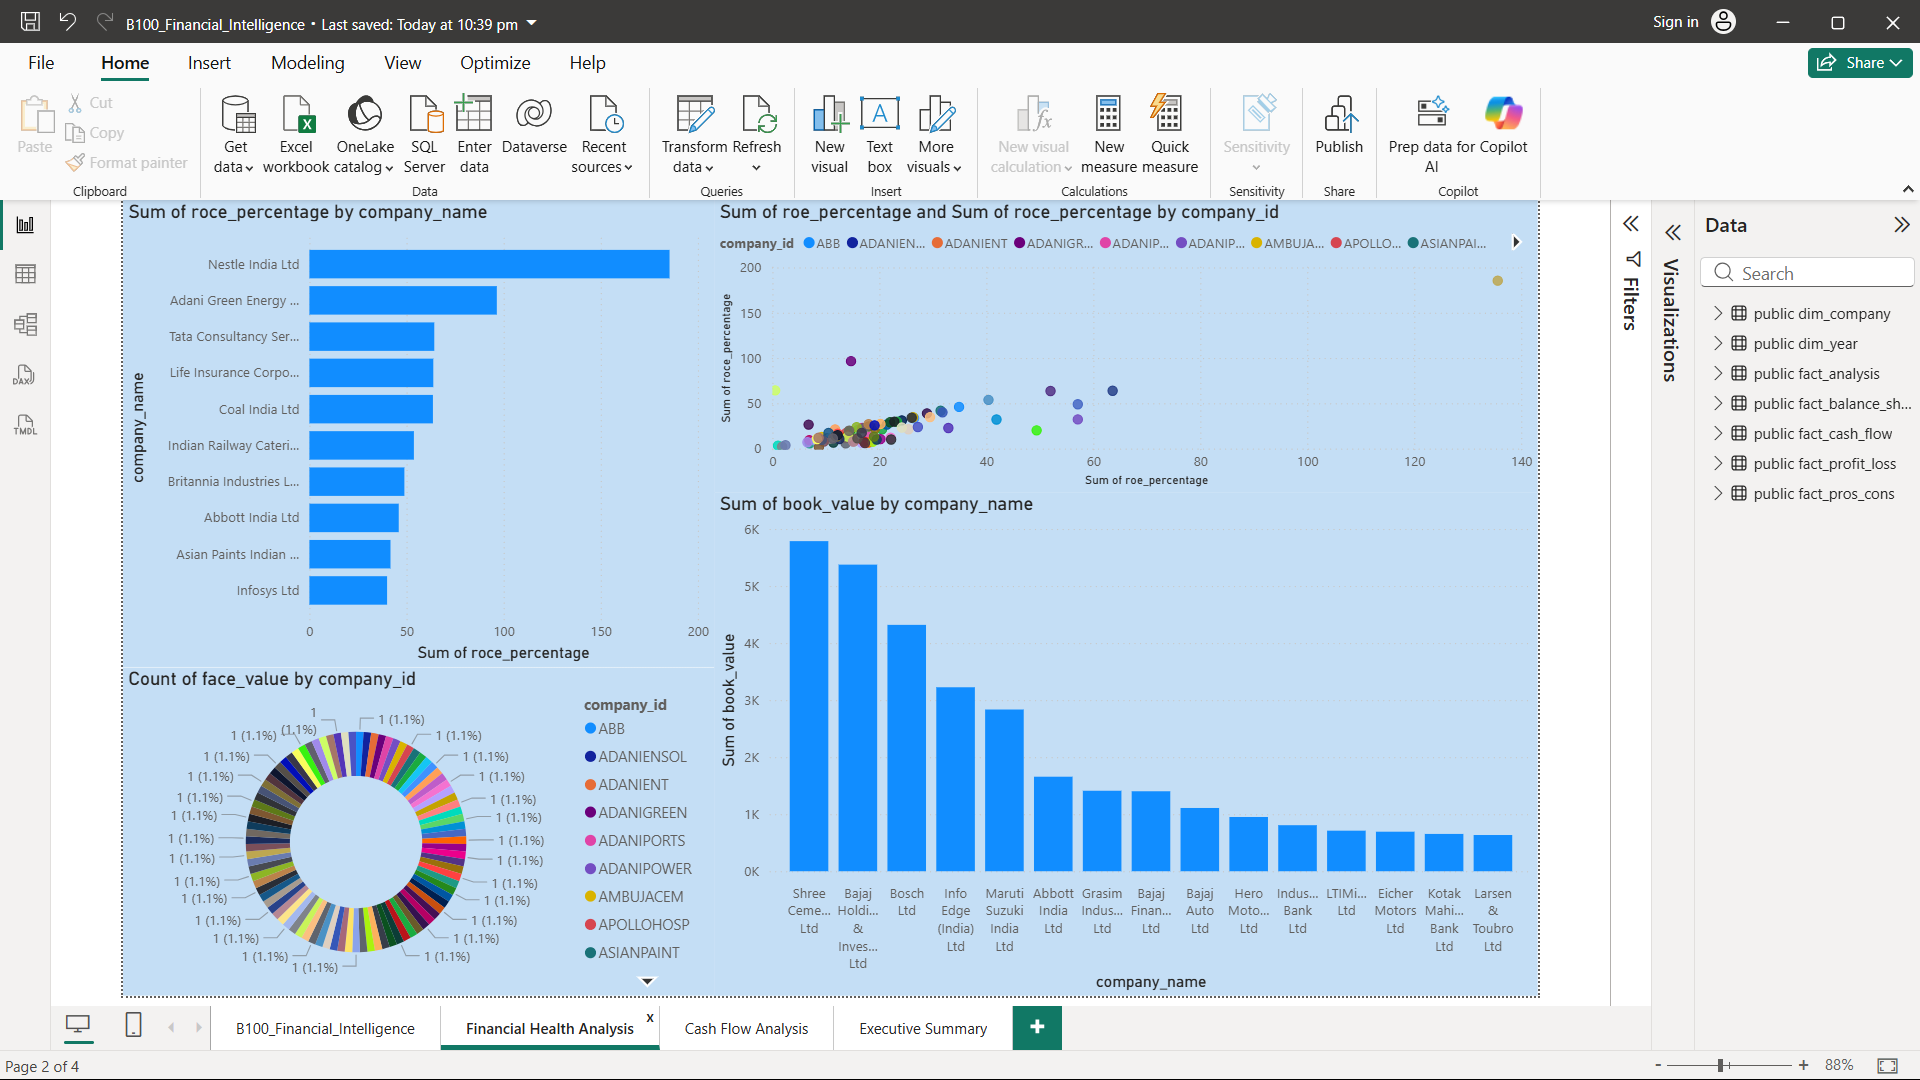

The page's visual inventory and layout, read from the dashboard file:
{"tool":"powerbi","page":{"name":"Financial Health Analysis","canvas":[1280,720],"ordinal":1},"visuals":[{"type":"clusteredBarChart","fields":{"Category":["public dim_company.company_name"],"Y":["Sum(public dim_company.roce_percentage)"]},"box":[0,0,535.2,422.6],"z":0},{"type":"scatterChart","fields":{"X":["Sum(public dim_company.roe_percentage)"],"Y":["Sum(public dim_company.roce_percentage)"],"Series":["public dim_company.company_id"]},"box":[535.2,0,745.1,264.8],"z":1000},{"type":"clusteredColumnChart","fields":{"Category":["public dim_company.company_name"],"Y":["Sum(public dim_company.book_value)"]},"box":[535.2,264.8,745.1,455.6],"z":2000},{"type":"donutChart","fields":{"Y":["CountNonNull(public dim_company.face_value)"],"Category":["public dim_company.company_id"]},"box":[0,423,535,297],"z":3000}]}

Visuals, with their boxes on the page's 1280x720 design canvas (x1, y1, x2, y2). These are canvas units, not pixel positions in the 1920x1080 screenshot, which may show the page scaled, cropped or inside an application window:
clusteredBarChart - public dim_company.company_name x Sum(public dim_company.roce_percentage): <region>0, 0, 535, 423</region>
scatterChart - Sum(public dim_company.roe_percentage) x Sum(public dim_company.roce_percentage): <region>535, 0, 1280, 265</region>
clusteredColumnChart - public dim_company.company_name x Sum(public dim_company.book_value): <region>535, 265, 1280, 720</region>
donutChart - CountNonNull(public dim_company.face_value) x public dim_company.company_id: <region>0, 423, 535, 720</region>
